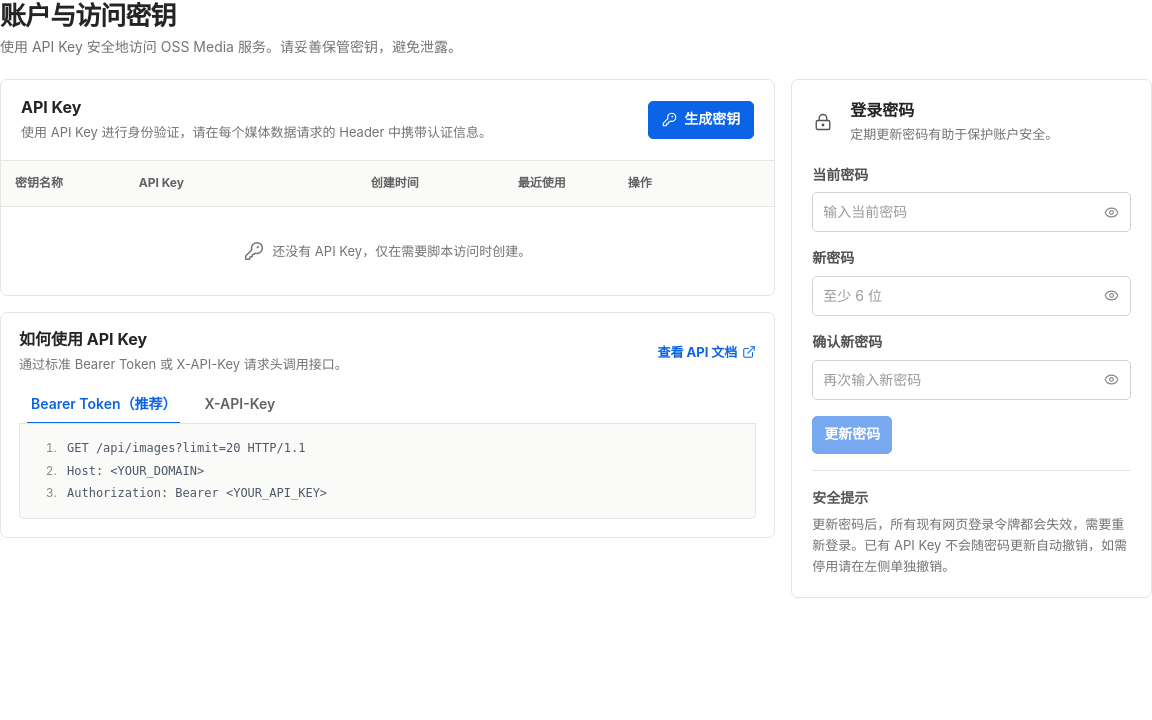
Test: AccountView › closes the name dialog without creating a key when cancelled
The image size is (1152, 720).
Click the button with class "generate-key-button": (701, 120) 648,101 -> 754,139
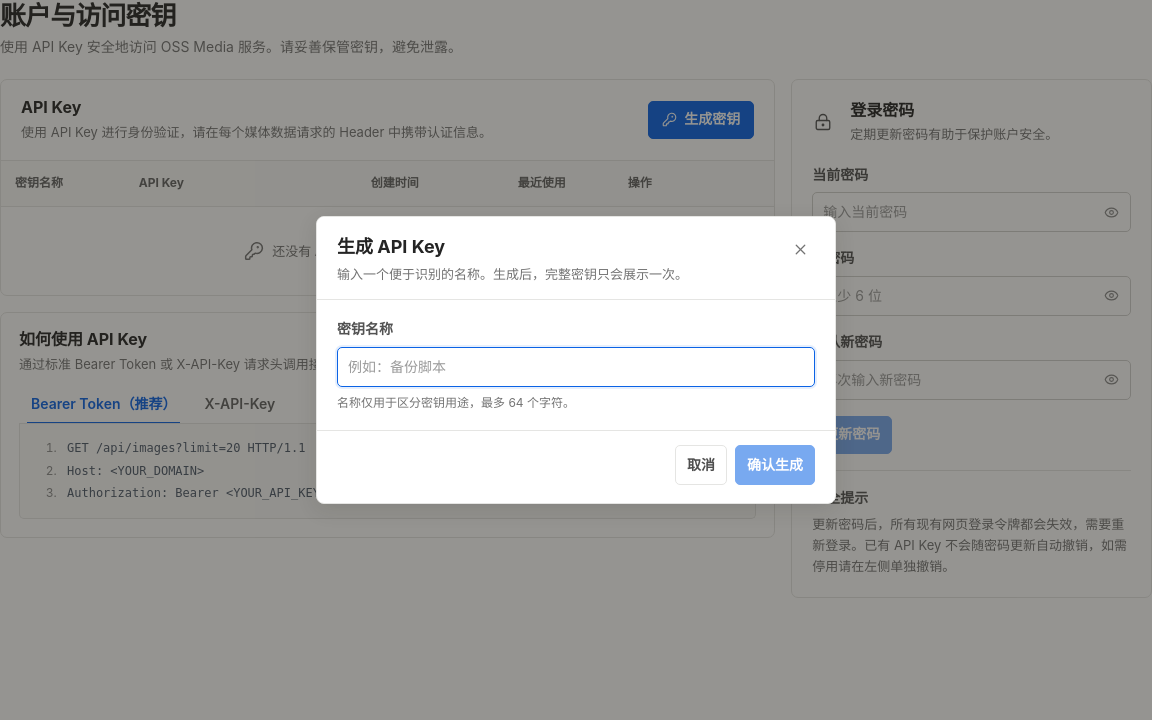
Click the button "取消": (701, 465) 675,445 -> 727,485
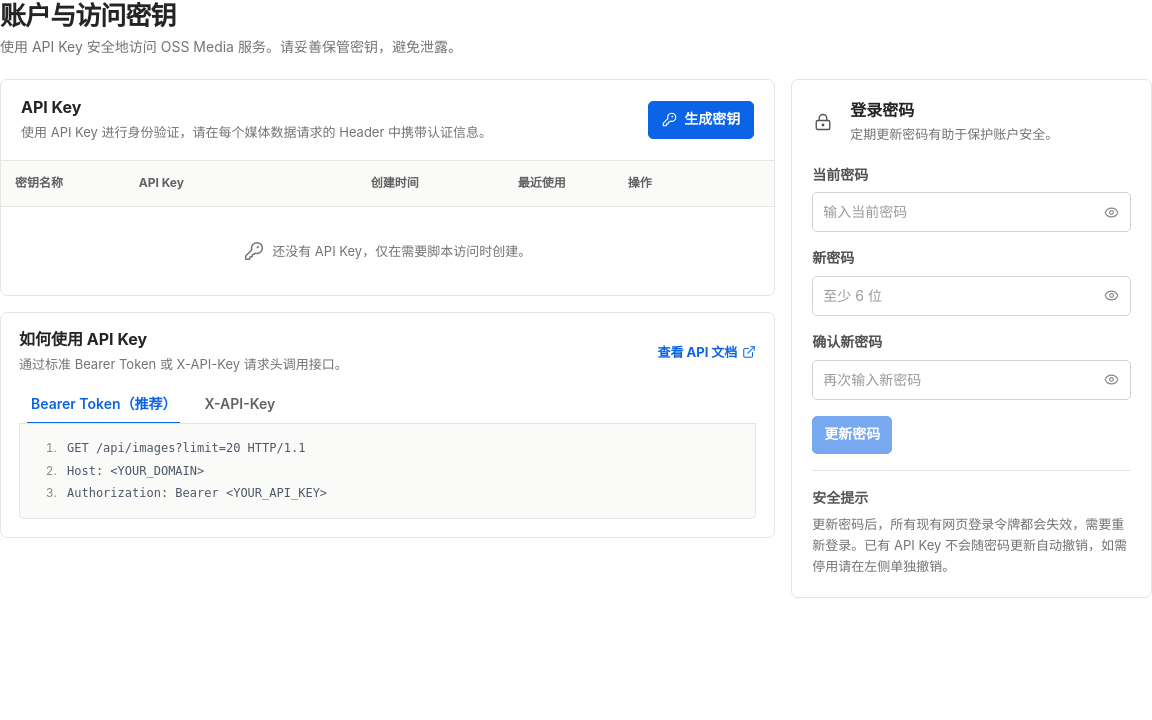
Result: the dialog with class "base-modal-panel" is gone
